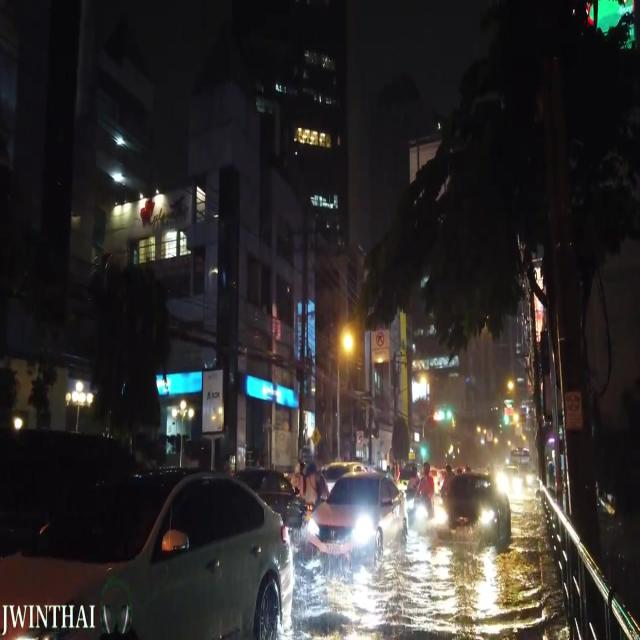Car: (301, 474, 404, 561), (434, 473, 510, 545)
